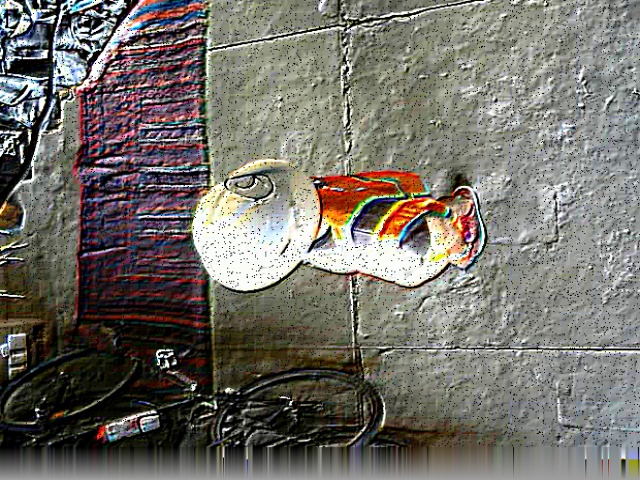two: (224, 173, 273, 199)
